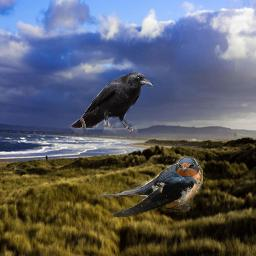Crow: (67, 71, 153, 136)
Swallow: (93, 156, 203, 217)
